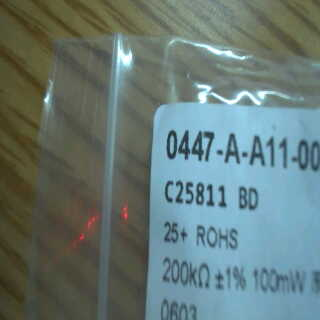200kR: (155, 256, 214, 292)
